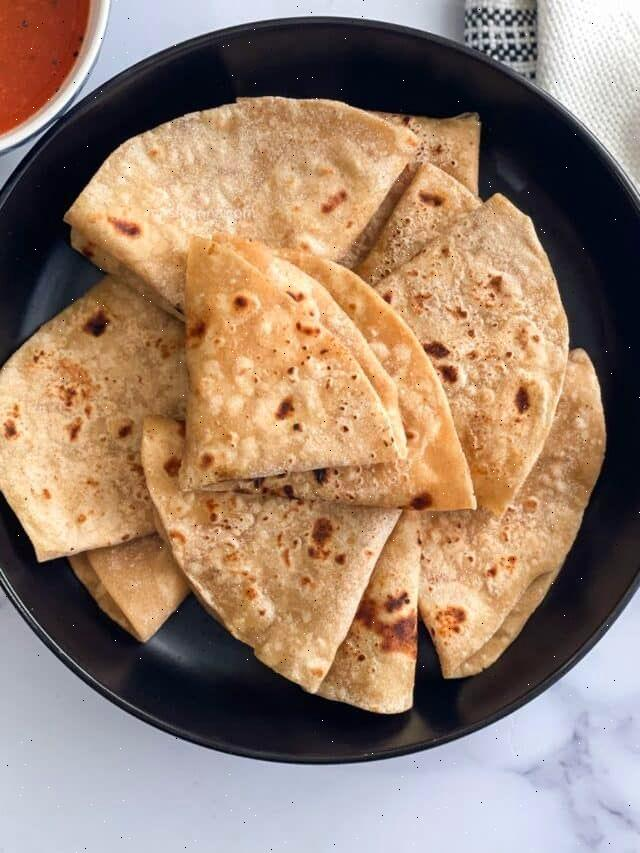roti phulka: (0, 150, 625, 704), (2, 107, 3, 113)
